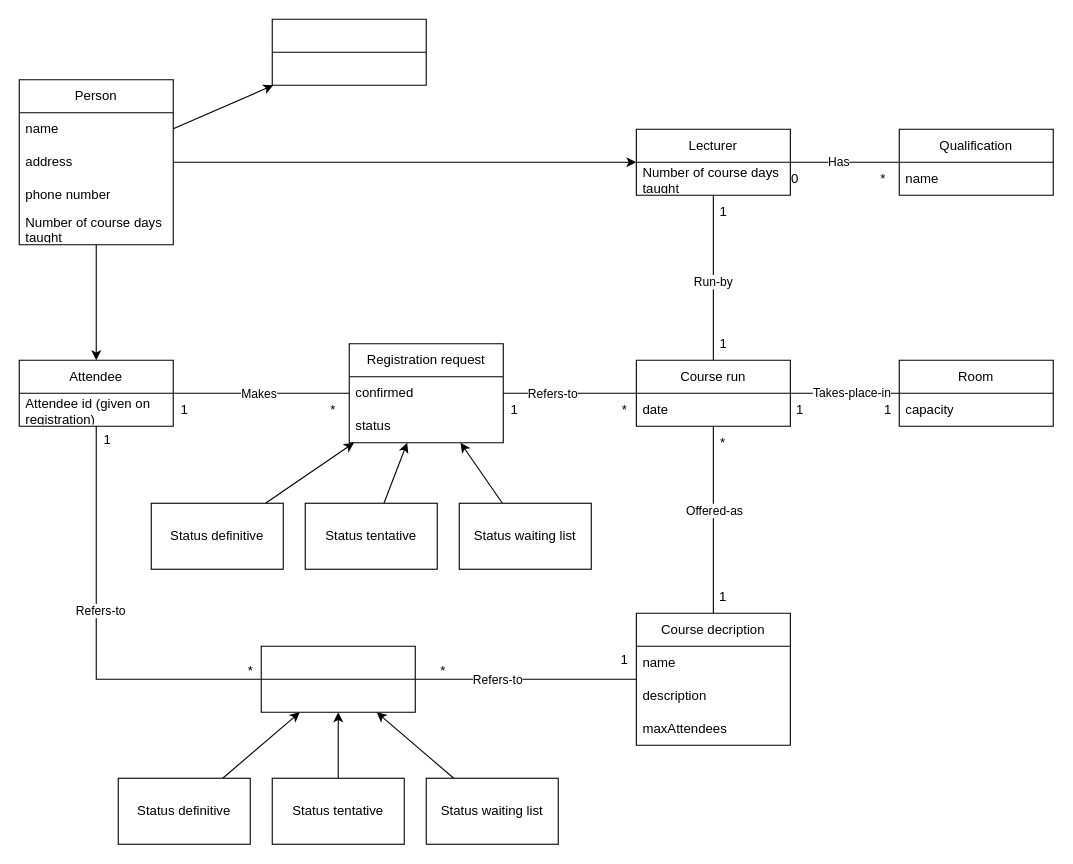
The diagram is 1073 pixels wide and 864 high, and some of its shapes have lost their labels. Here are the shapes that lost their labels. From the top down, the centre of each, then its label:
point 348,51: Administrator
point 337,678: Waiting List Entry
